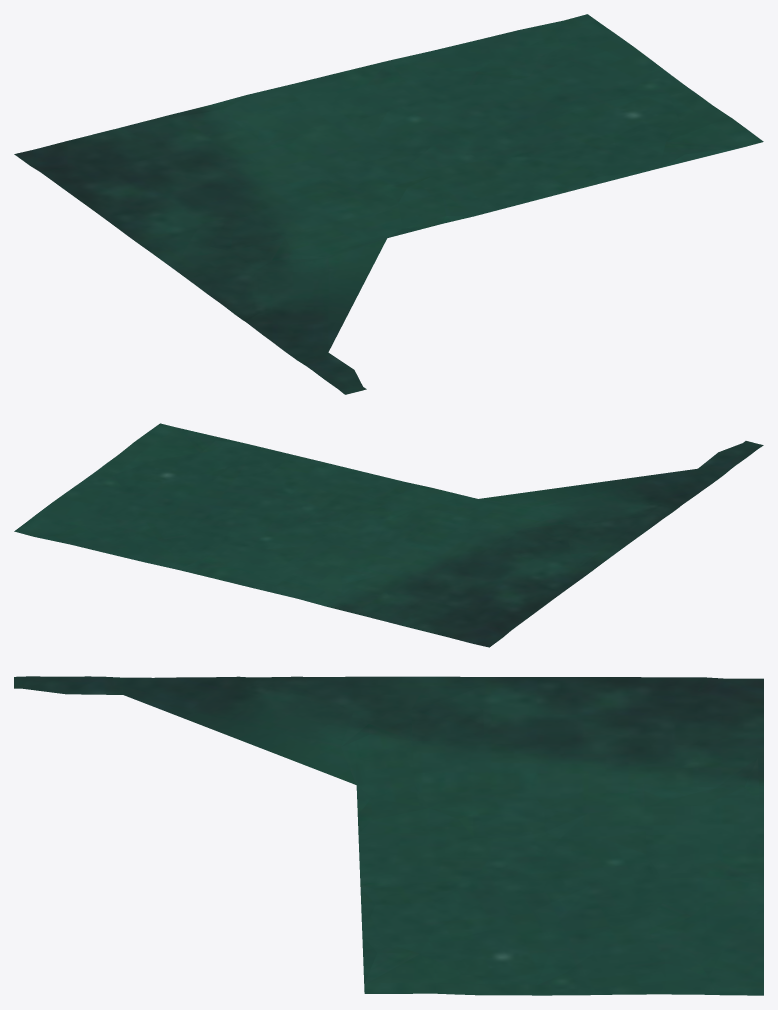
3 renders of one model, top to bottom at view 1: azimuth 30°, elevation 25°; view 2: azimuth 150°, elevation 25°; view 3: azimuth 270°, elevation 25°, orthographic. The views are drawn at different scales.
Size of the model in its own units: 52.22 by 0.2986 by 52.22.
Materials: 2 (2 with a texture image).
